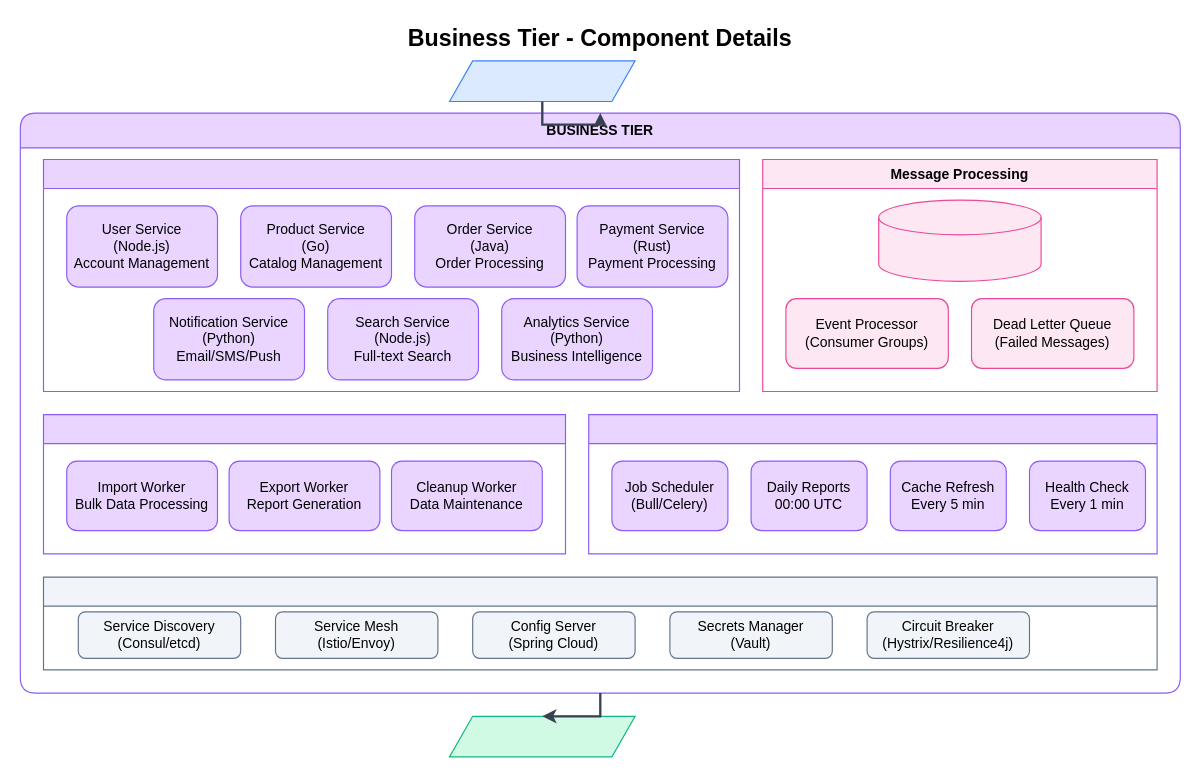
This 1201x777 diagram has some shape labels left out. The box of each missing label's shape, as (x1, y1, x2, y2) in pixels:
Background Workers: (42, 414, 566, 554)
Core Services: (42, 158, 740, 392)
From API Tier: (448, 60, 635, 102)
Message Broker (RabbitMQ/Kafka) Event Bus: (878, 199, 1041, 281)
Scheduled Jobs: (588, 414, 1157, 554)
Service Mesh / Discovery: (42, 576, 1157, 670)
To Data Tier: (448, 715, 635, 757)
